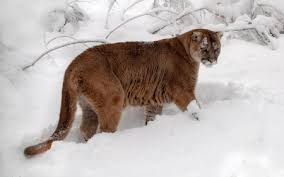Mountain Lion: (75, 26, 223, 116)
